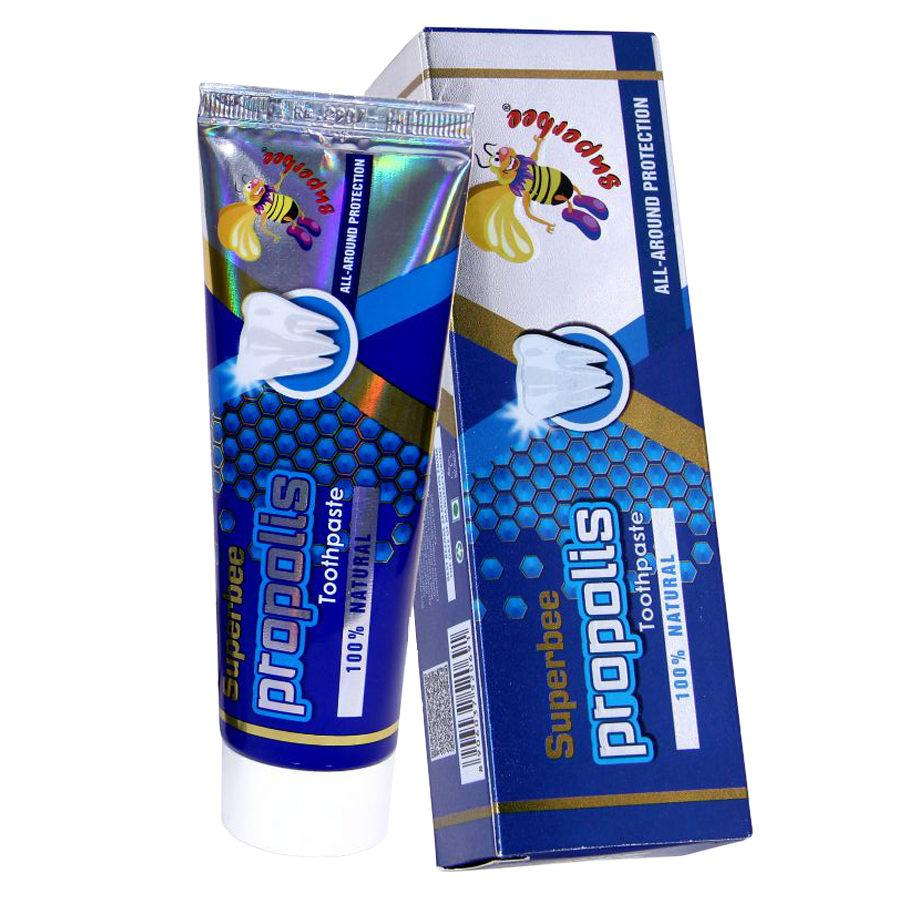toothpaste: (340, 19, 771, 885), (166, 81, 485, 865)
